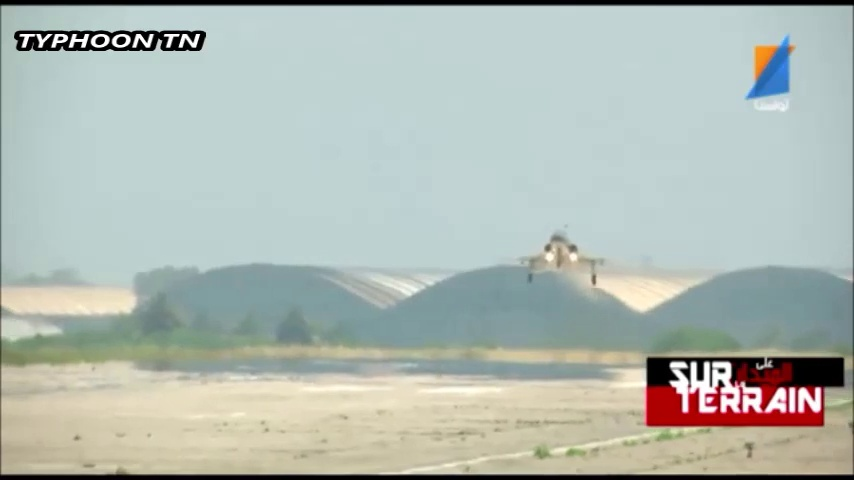Airplane: (523, 227, 604, 286)
